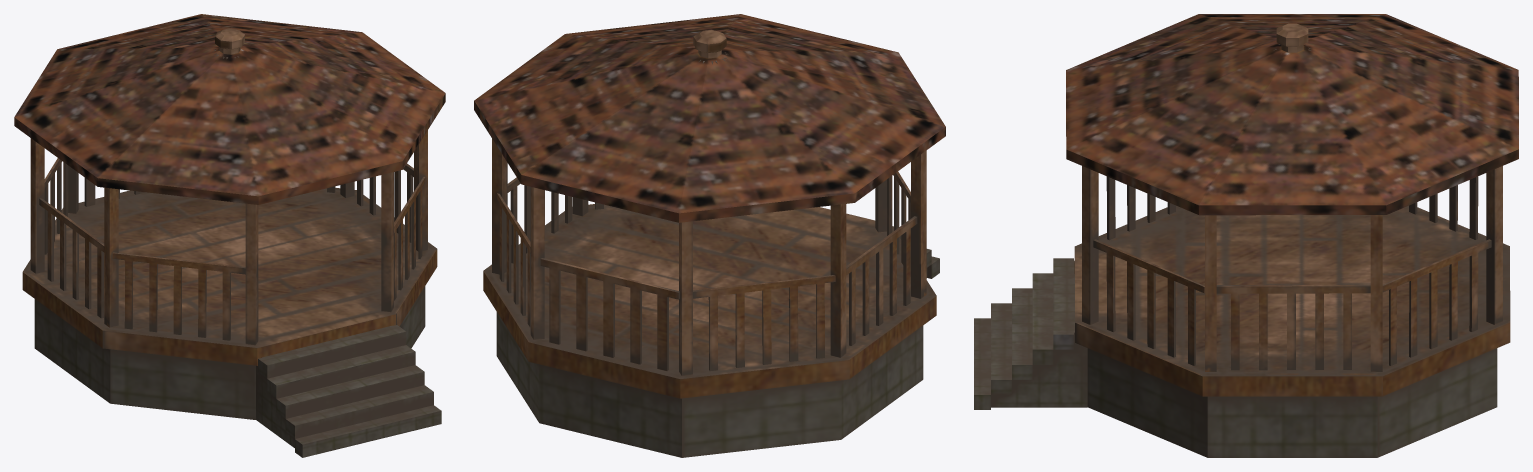
File: Gazebo.fbx
3 renders of one model, left to right at view 1: azimuth 30°, elevation 25°; view 2: azimuth 150°, elevation 25°; view 3: azimuth 270°, elevation 25°, orthographic. The views are drawn at different scales.
Visible parts, largest first — view 1: Cylinder; view 2: Cylinder; view 3: Cylinder.
Part boxes in pixels (x1=…): Cylinder: x1=14, y1=14, x2=445, y2=457; Cylinder: x1=474, y1=14, x2=945, y2=457; Cylinder: x1=974, y1=14, x2=1518, y2=457.
Bounding box in the file's own units: 546 × 457 × 657.
Materials: 1 (1 with a texture image).
